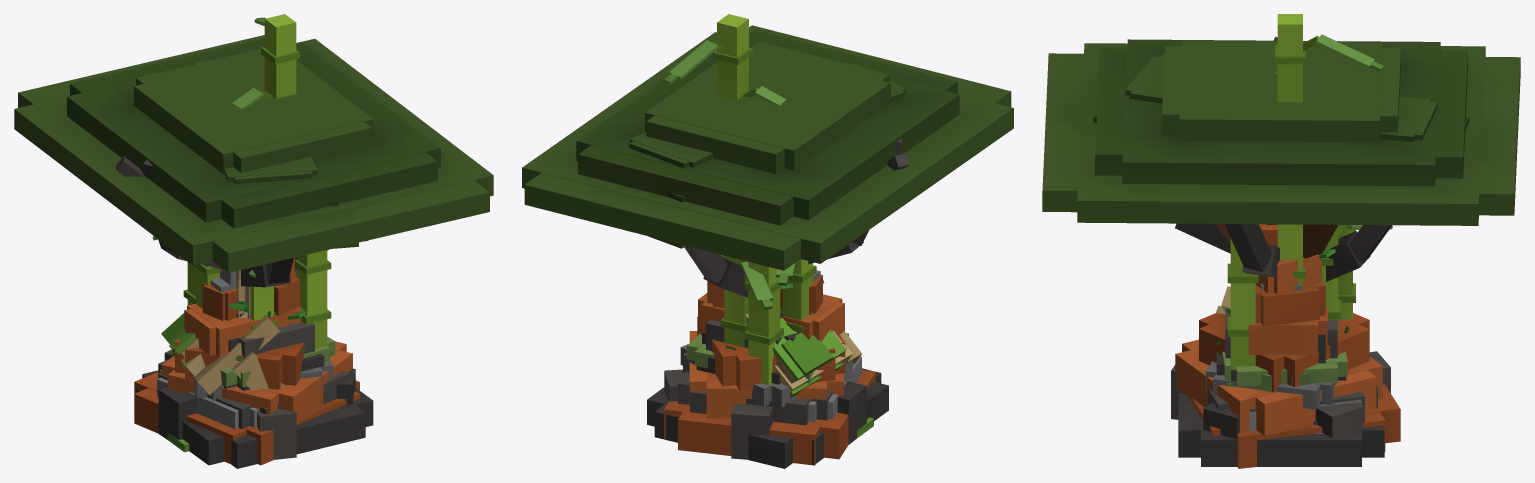
The model's file is ZoneDecor610.fbx.
The picture shows the model from 3 angles, left to right: view 1: azimuth 30°, elevation 25°; view 2: azimuth 150°, elevation 25°; view 3: azimuth 270°, elevation 25°; orthographic projection. The views are drawn at different scales.
Visible parts, largest first — view 1: Acacia, TermiteMound, Vent, Bamboo, StatueHead, MossyStone, CharredTree, Pillar; view 2: Acacia, TermiteMound, Bamboo, Vent, StatueHead, MossyStone, CharredTree; view 3: Acacia, TermiteMound, Vent, Bamboo, CharredTree, MossyStone.
Part boxes in pixels (<box>): Acacia: <box>14,35,493,273</box>; TermiteMound: <box>134,257,359,465</box>; Vent: <box>136,322,373,468</box>; Bamboo: <box>152,14,331,348</box>; StatueHead: <box>161,311,288,452</box>; MossyStone: <box>157,336,335,428</box>; CharredTree: <box>116,156,328,317</box>; Pillar: <box>229,270,305,319</box>; Acacia: <box>522,25,1013,270</box>; TermiteMound: <box>664,274,875,465</box>; Bamboo: <box>664,14,816,394</box>; Vent: <box>647,320,888,468</box>; StatueHead: <box>746,313,873,438</box>; MossyStone: <box>680,333,861,422</box>; CharredTree: <box>684,139,909,318</box>; Acacia: <box>1042,39,1520,258</box>; TermiteMound: <box>1175,224,1400,468</box>; Vent: <box>1171,308,1390,466</box>; Bamboo: <box>1224,14,1392,386</box>; CharredTree: <box>1175,36,1391,281</box>; MossyStone: <box>1205,351,1361,433</box>.
Bounding box in the file's own units: 12.9 × 16.38 × 16.2.
